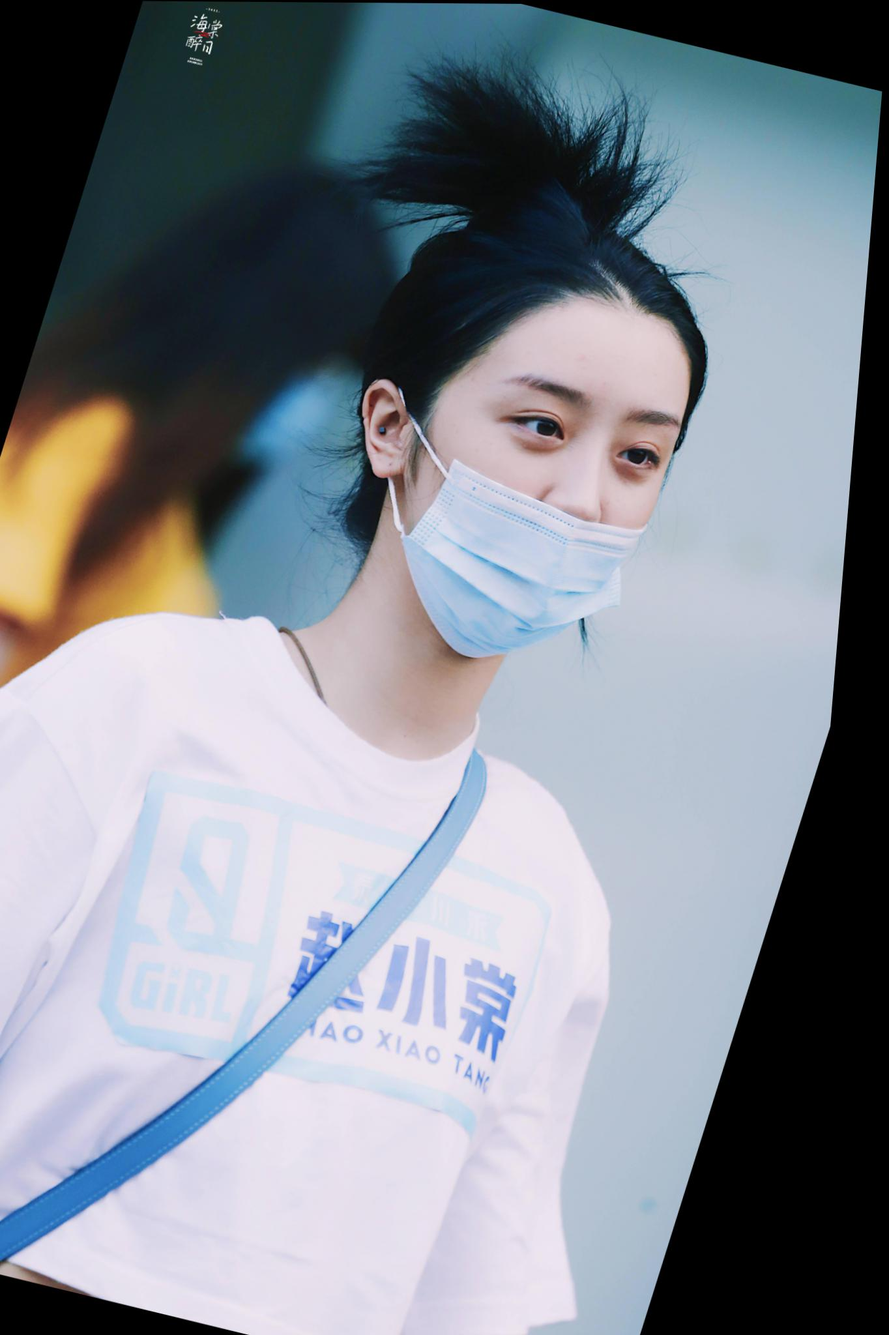WRONG: (366, 327, 702, 693)
